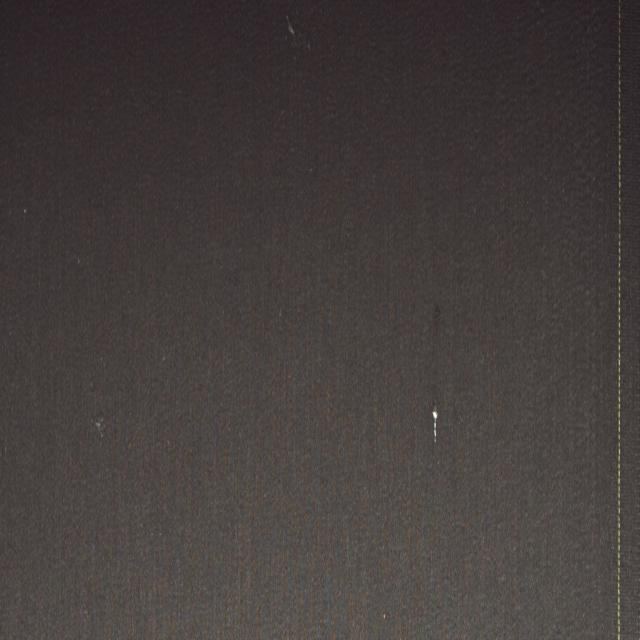Knot: (434, 407, 439, 444)
Line: (616, 0, 625, 640)
